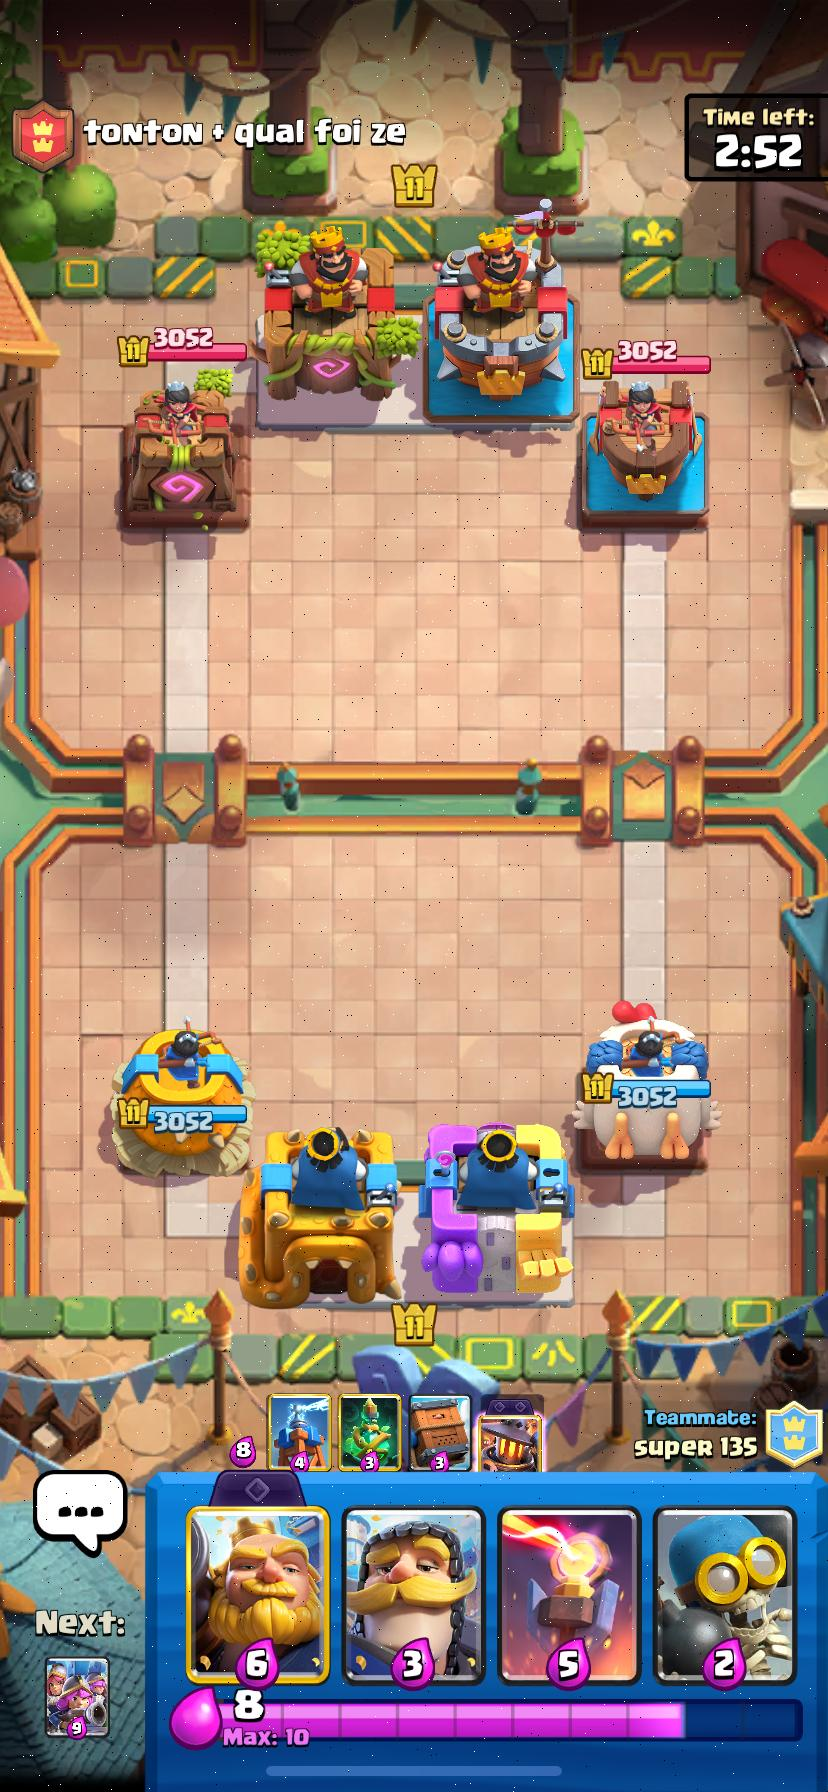EKingTower: (433, 211, 573, 411), (264, 224, 403, 400)
EnemyPrincessTower: (586, 383, 707, 523), (124, 384, 236, 527)
OwnKingTower: (419, 1123, 573, 1299), (261, 1127, 401, 1305)
OwnPrincessTower: (116, 1029, 253, 1173), (582, 1016, 710, 1161)
